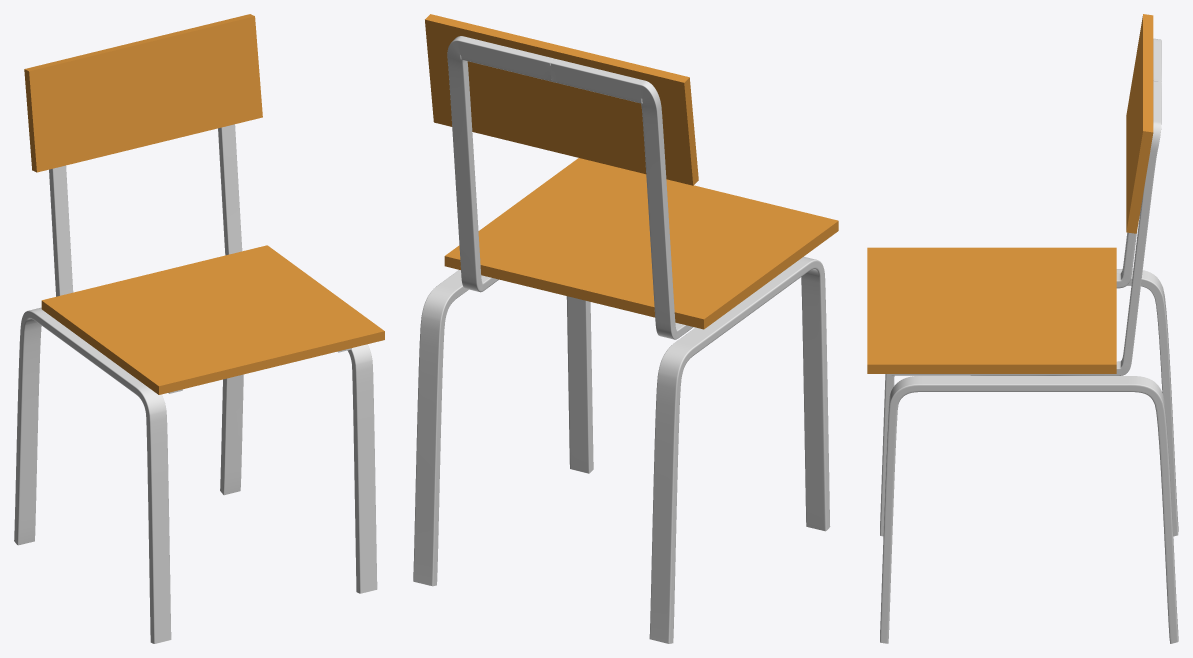
File: stul001.fbx
3 views of the same model, side by side, from view 1: azimuth 30°, elevation 25°; view 2: azimuth 150°, elevation 25°; view 3: azimuth 270°, elevation 25° (orthographic). The views are drawn at different scales.
Visible parts, largest first — view 1: Cube.025, Cube.026, BezierCurve.003, BezierCurve.004; view 2: Cube.025, BezierCurve.003, Cube.026, BezierCurve.004; view 3: Cube.025, BezierCurve.003, Cube.026, BezierCurve.004.
Boxes of the visible parts, x1=… form: Cube.025: x1=41, y1=245, x2=384, y2=394; Cube.026: x1=24, y1=14, x2=262, y2=172; BezierCurve.003: x1=14, y1=307, x2=377, y2=643; BezierCurve.004: x1=49, y1=124, x2=351, y2=393; Cube.025: x1=444, y1=158, x2=838, y2=329; BezierCurve.003: x1=413, y1=256, x2=830, y2=643; Cube.026: x1=425, y1=14, x2=698, y2=185; BezierCurve.004: x1=447, y1=36, x2=693, y2=339; Cube.025: x1=867, y1=247, x2=1116, y2=373; BezierCurve.003: x1=880, y1=269, x2=1178, y2=643; Cube.026: x1=1126, y1=14, x2=1153, y2=233; BezierCurve.004: x1=891, y1=38, x2=1161, y2=375.
Bounding box in the file's own units: 40 × 81.85 × 44.91.
